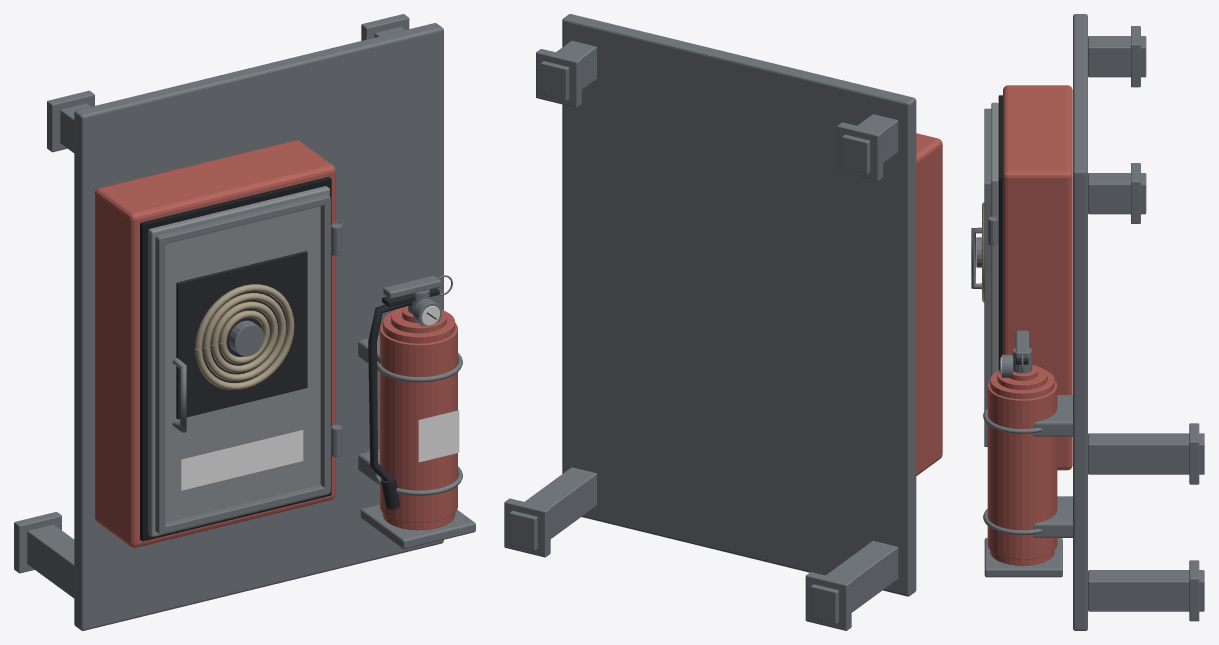
File: BP_WallSafety_R9.fbx
3 renders of one model, left to right at view 1: azimuth 30°, elevation 25°; view 2: azimuth 150°, elevation 25°; view 3: azimuth 270°, elevation 25°, orthographic. The views are drawn at different scales.
Parts seen in each view (by area): view 1: BP_WallSafety_R9; view 2: BP_WallSafety_R9; view 3: BP_WallSafety_R9.
Part boxes in pixels (x1,y1,x2,y2): BP_WallSafety_R9: [14, 14, 475, 630]; BP_WallSafety_R9: [504, 14, 942, 630]; BP_WallSafety_R9: [971, 14, 1204, 630].
Bounding box in the file's own units: 134 × 182 × 83.65.
